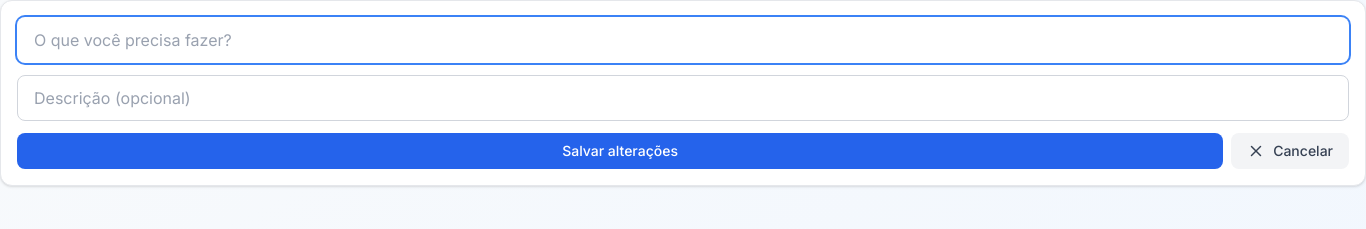
Scenario: TaskForm › Cancelamento › deve limpar o erro ao cancelar
The image size is (1366, 229).
What coordinates should you click on to do the following:
click the button "Salvar alterações"
I would click on:
 (620, 151)
Its box is [17,133,1223,169].
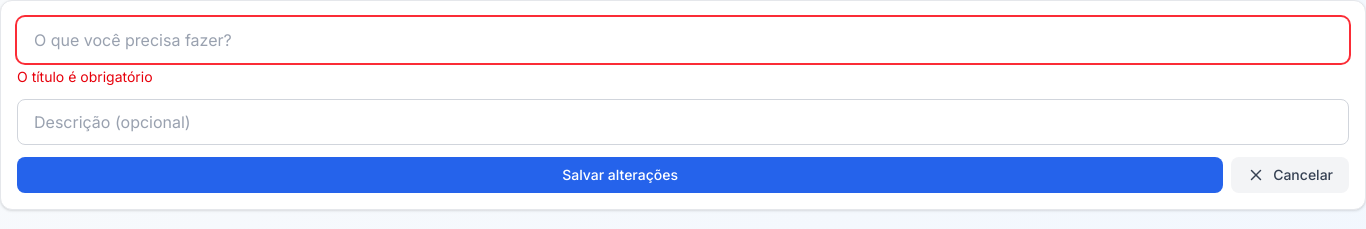
Result: the text "O título é obrigatório" is shown at [17,68,152,85]
What coordinates should you click on to do the following:
click the button "Cancelar"
I would click on:
 (1290, 175)
Its box is [1231,157,1349,193].
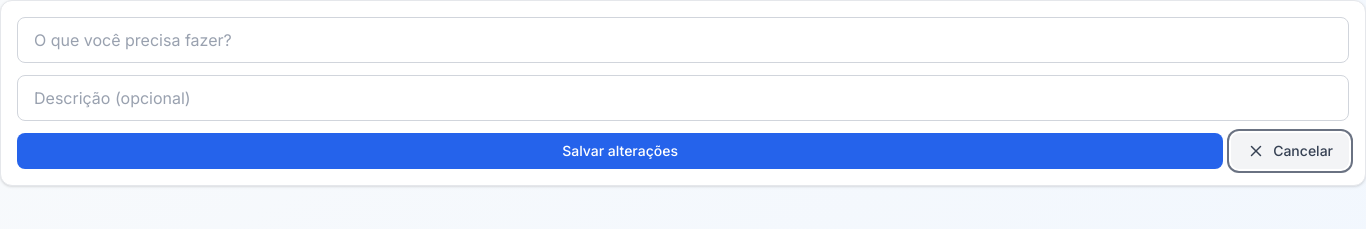
Result: the text "O título é obrigatório" is gone
